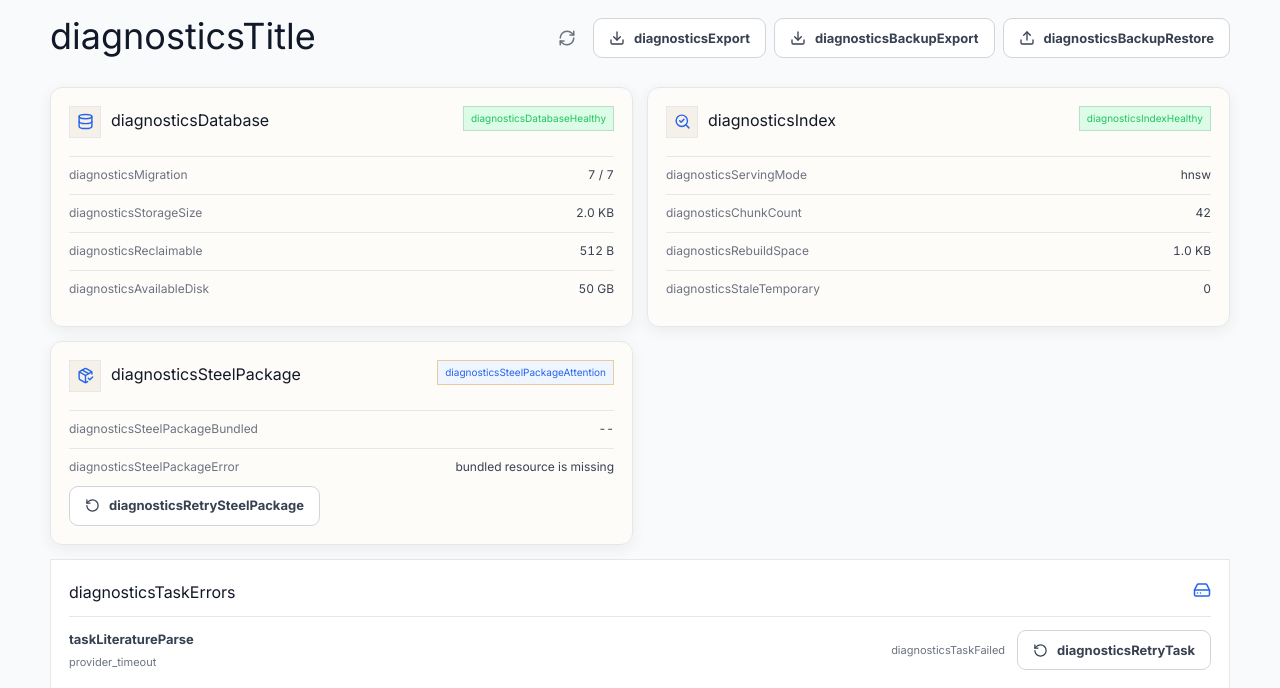
Test: DiagnosticsPage › does not report a repair when the follow-up diagnostics refresh fails
Click the button "diagnosticsRetrySteelPackage": click(194, 506) [69,486,320,526]
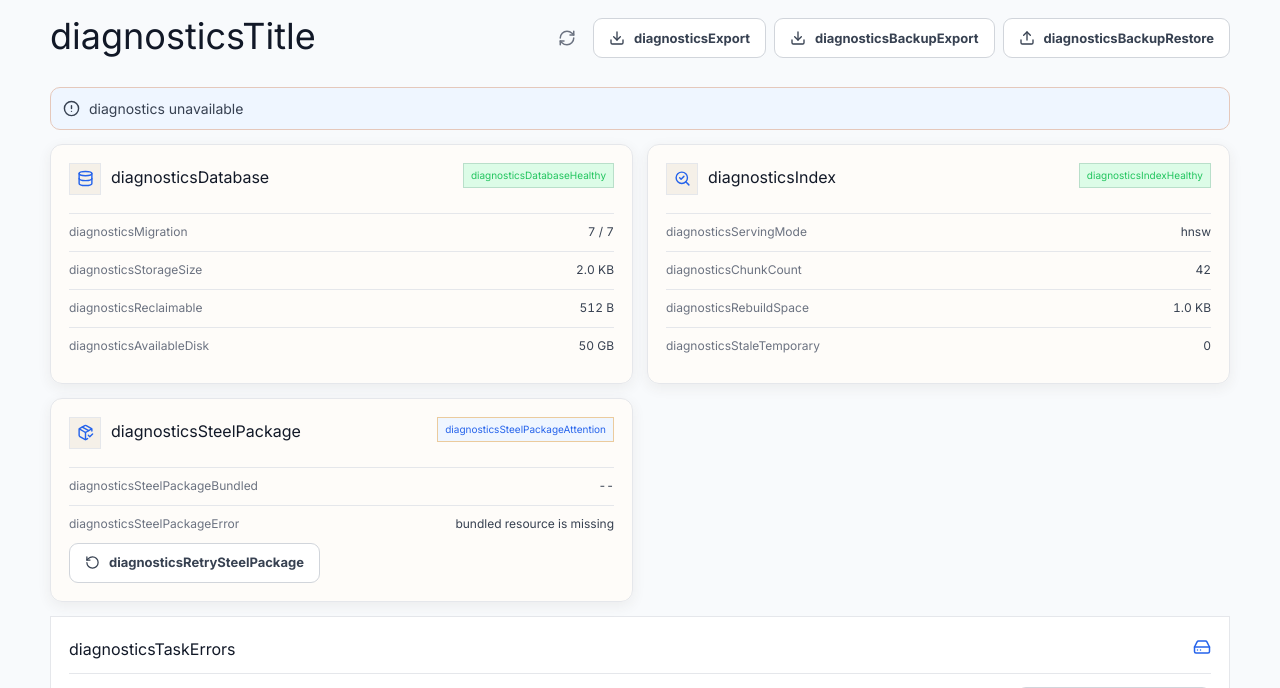
Expected: the message reads "diagnostics unavailable", [89,100,243,117]
